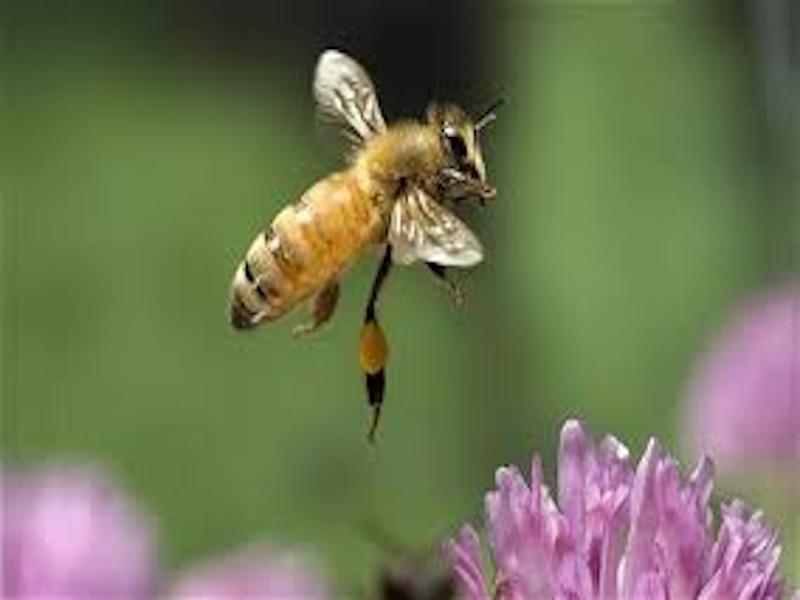abeja: (209, 15, 511, 443)
